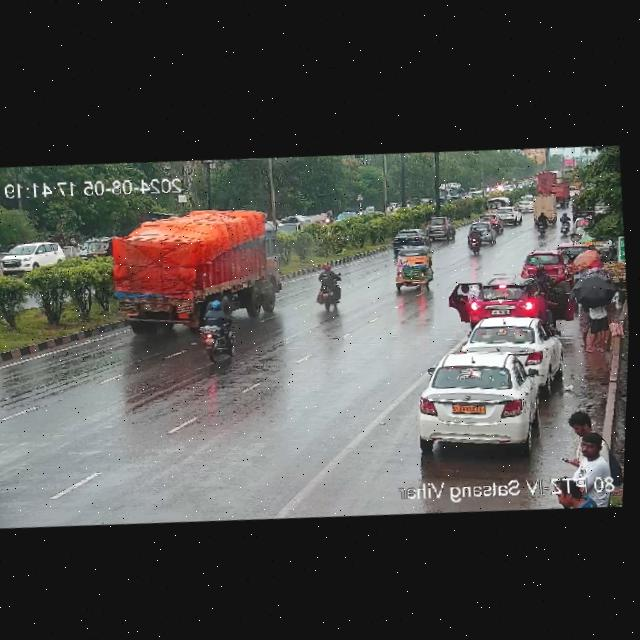car: (411, 349, 546, 458), (460, 309, 563, 384), (445, 272, 537, 326), (516, 237, 585, 283), (392, 244, 436, 295), (422, 219, 454, 242), (390, 226, 428, 245), (493, 204, 521, 224), (517, 194, 534, 211)
motorcycle: (306, 259, 355, 312), (195, 296, 239, 345), (523, 259, 555, 294), (529, 211, 555, 237), (464, 226, 487, 254), (559, 210, 571, 236)
person: (554, 405, 611, 469), (569, 295, 611, 356), (550, 478, 584, 510), (584, 246, 605, 276)
truck: (94, 196, 290, 344), (537, 166, 573, 203), (528, 191, 561, 229), (272, 211, 326, 234), (434, 179, 464, 203), (486, 196, 510, 212)
